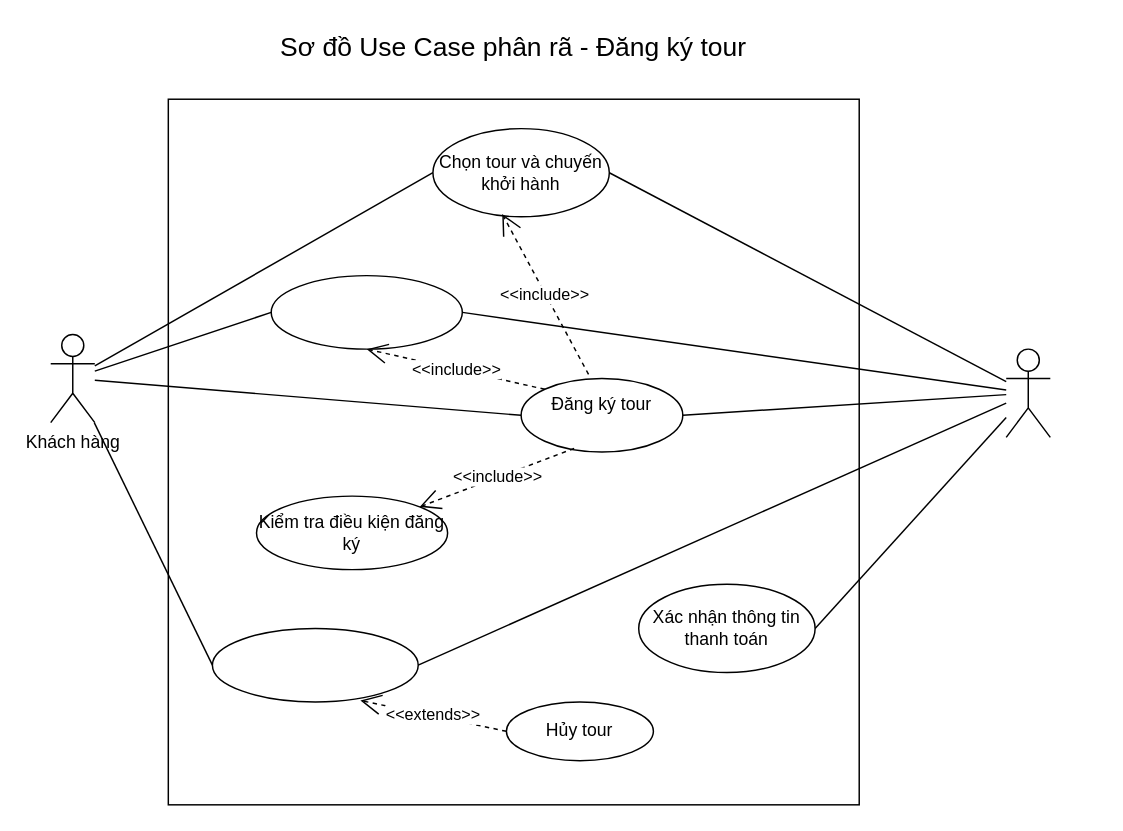
The diagram is 1123 pixels wide and 831 high, and some of its shapes have lost their labels. The centre of each missing label's shape, as x and y in pixels:
Nhân viên quản lý và điều hành tour: point 1027,392
Nhập thông tin đăng ký: point 366,311
Xác nhận đăng ký tour: point 314,664
